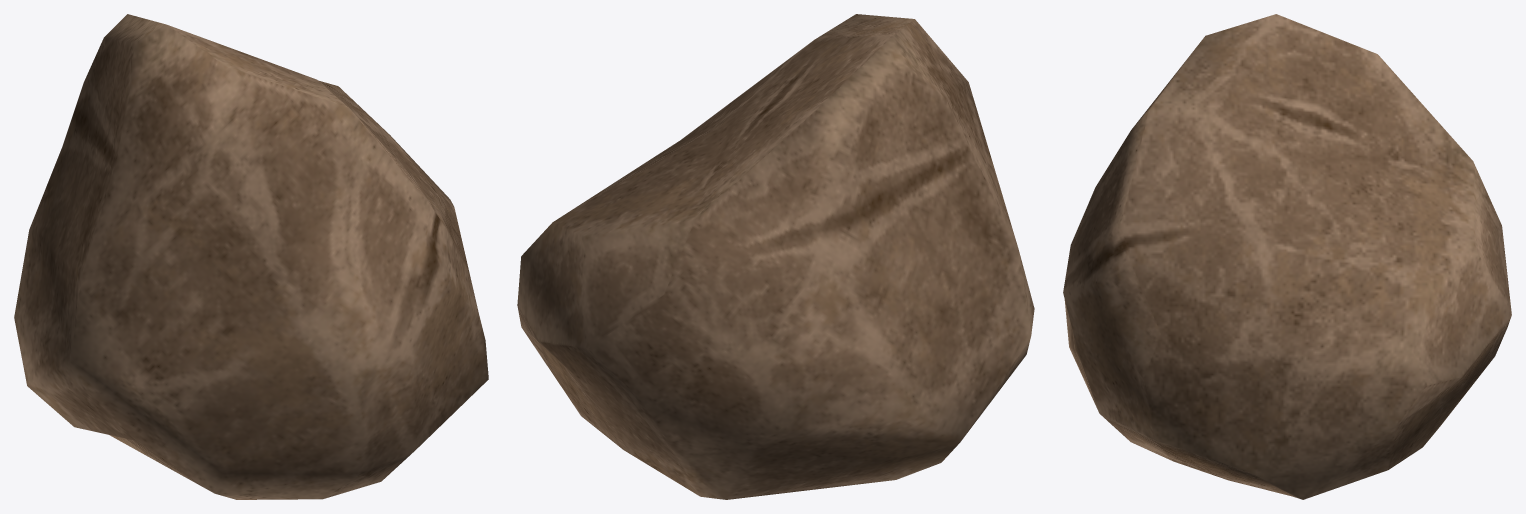
Rendered from sb_obj_nature007_Rock01c.fbx.
3 renders of one model, left to right at view 1: azimuth 30°, elevation 25°; view 2: azimuth 150°, elevation 25°; view 3: azimuth 270°, elevation 25°, orthographic. The views are drawn at different scales.
Parts seen in each view (by area): view 1: sb_obj_nature007_Rock01c; view 2: sb_obj_nature007_Rock01c; view 3: sb_obj_nature007_Rock01c.
Part boxes in pixels (x1=…): sb_obj_nature007_Rock01c: x1=14, y1=14, x2=488, y2=499; sb_obj_nature007_Rock01c: x1=517, y1=14, x2=1034, y2=499; sb_obj_nature007_Rock01c: x1=1063, y1=14, x2=1511, y2=499.
Size of the model in its own units: 1.08 by 1.07 by 1.13.
